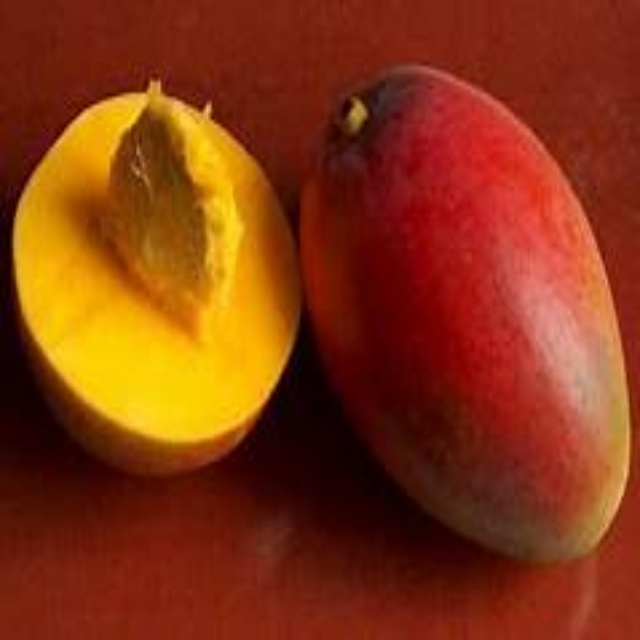mango: (298, 60, 630, 565), (15, 84, 292, 477)
